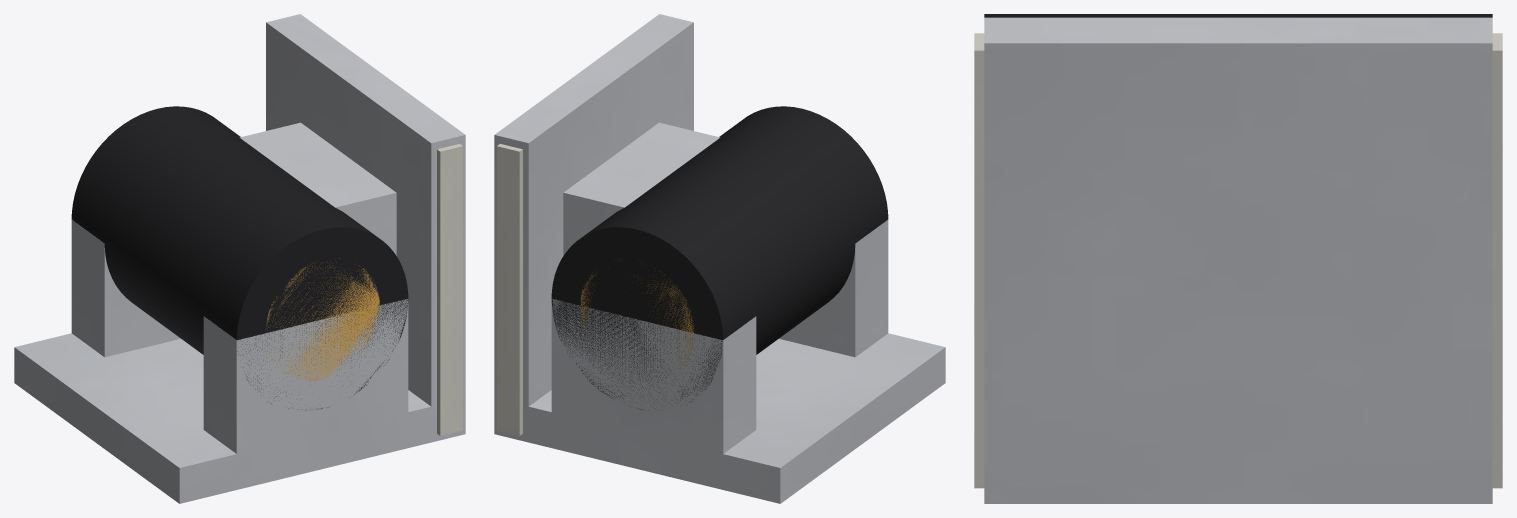
Rendered from robo00_hinge_xs_bent.glb.
3 views of the same model, side by side, from view 1: azimuth 30°, elevation 25°; view 2: azimuth 150°, elevation 25°; view 3: azimuth 270°, elevation 25° (orthographic). The views are drawn at different scales.
Parts seen in each view (by area): view 1: base_block, motor, half_b_block, half_b_foil, motor_caps; view 2: base_block, motor, half_b_block, half_b_foil, motor_caps; view 3: half_b_block, base_block, half_b_foil, motor.
Boxes of the visible parts, x1,y1,x2,y2 form: base_block: (14,220,465,503); motor: (71,106,408,410); half_b_block: (239,14,465,434); half_b_foil: (437,144,462,435); motor_caps: (265,258,379,380); base_block: (494,220,945,503); motor: (551,106,888,410); half_b_block: (494,14,720,434); half_b_foil: (497,144,522,435); motor_caps: (580,258,694,380); half_b_block: (984,17,1492,503); base_block: (984,448,1492,503); half_b_foil: (974,33,1502,488); motor: (984,14,1492,17).
Size of the model in its own units: 0.2 by 0.2 by 0.208.
4 materials, 3 textured.
